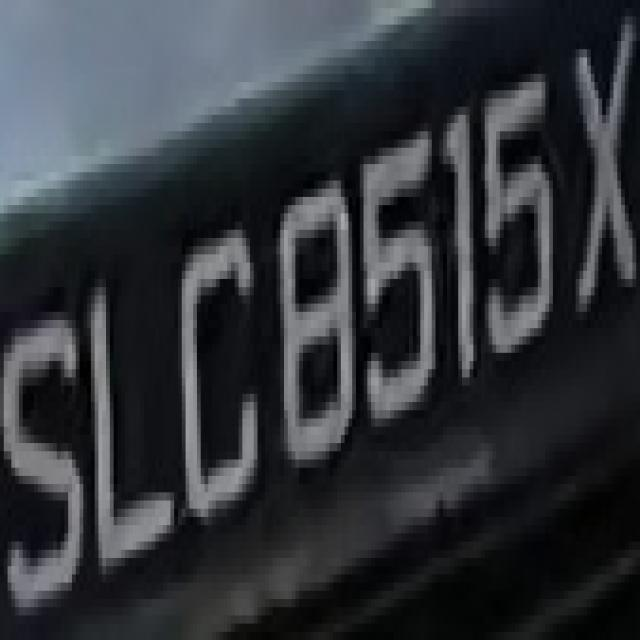1: (428, 90, 488, 410)
5: (352, 123, 443, 460), (477, 49, 561, 369)
8: (269, 172, 363, 468)
C: (174, 213, 273, 550)
L: (83, 246, 178, 583)
S: (12, 279, 84, 632)
X: (560, 0, 640, 345)
